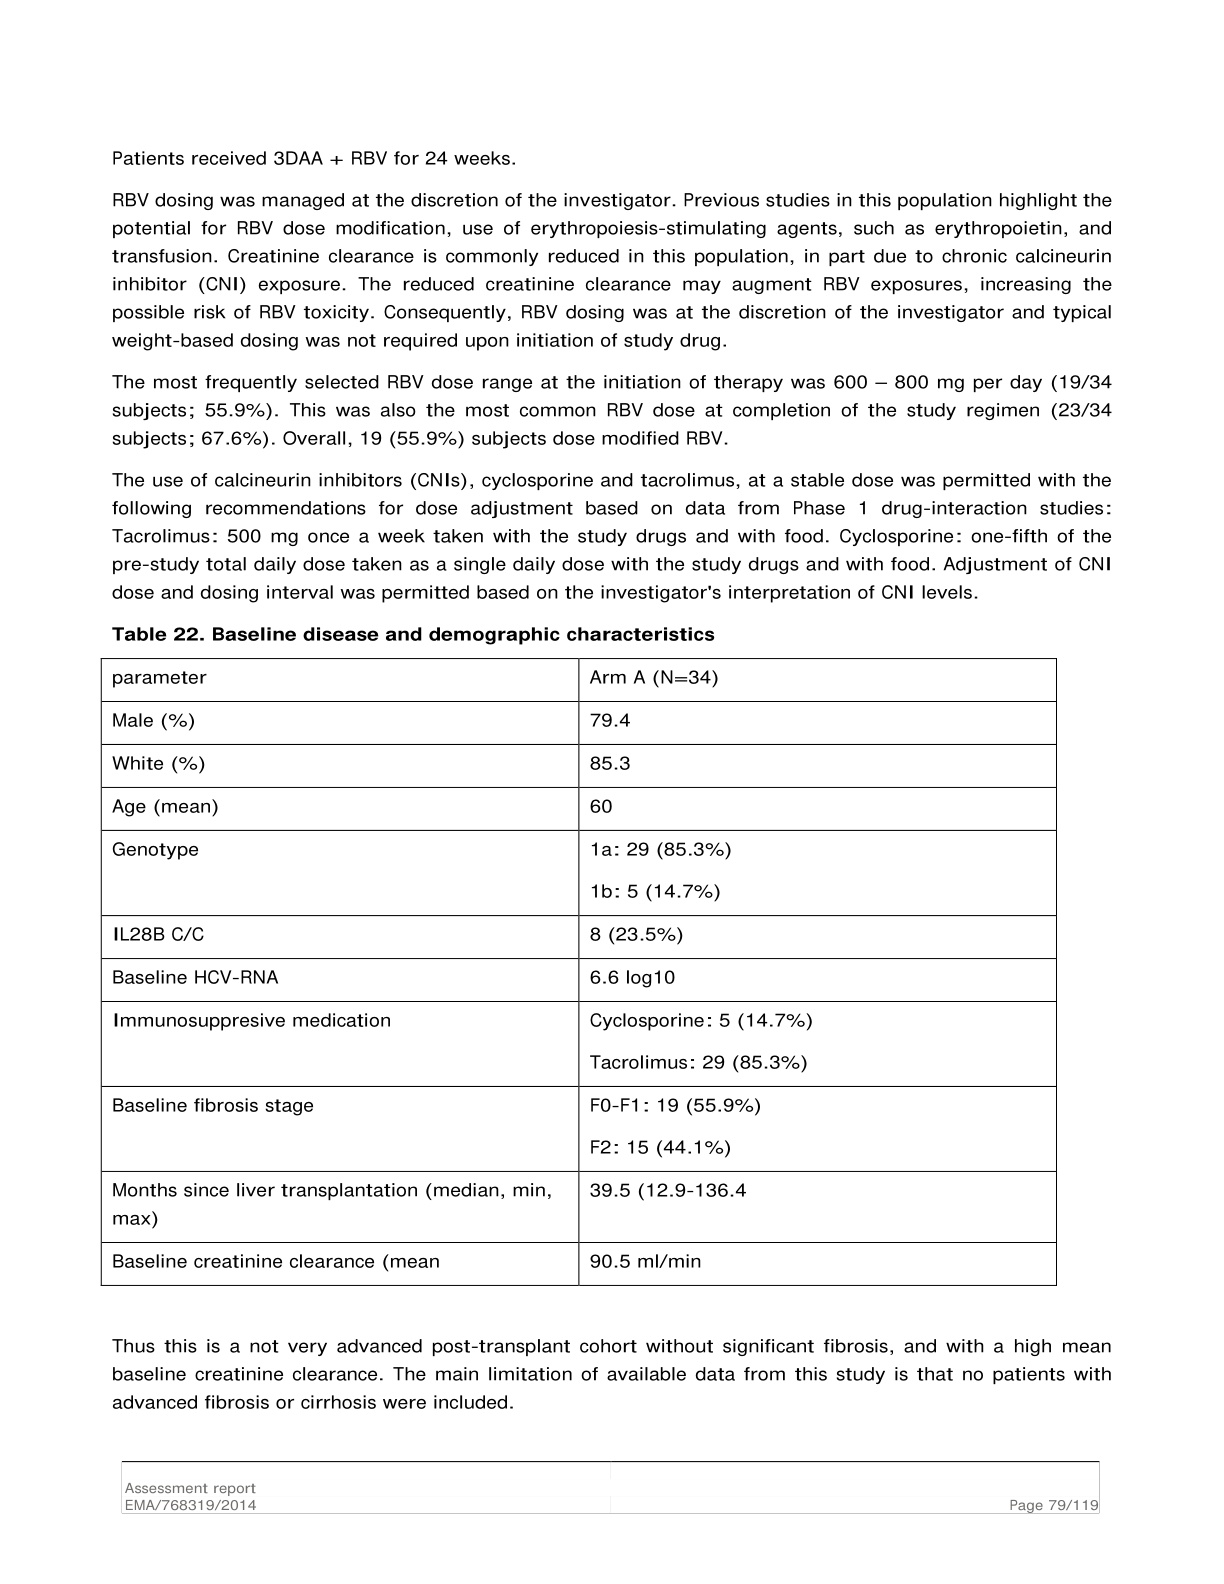full_lined: (100, 657, 1058, 1287)
